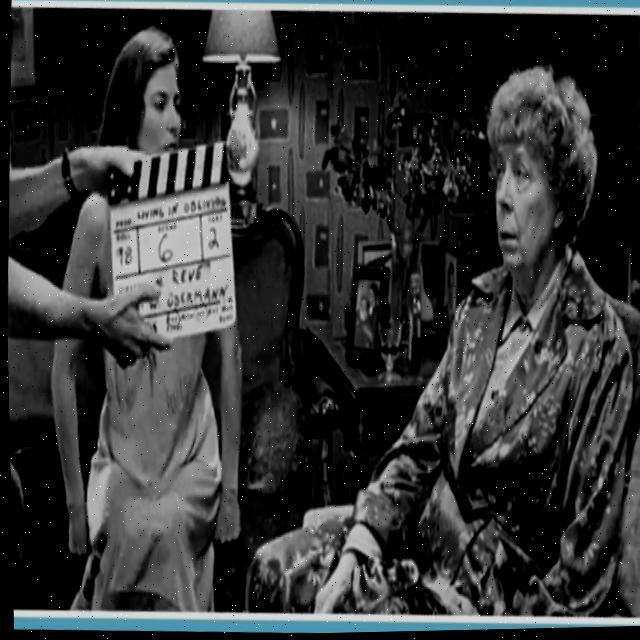Clapperboard: (100, 136, 245, 341)
